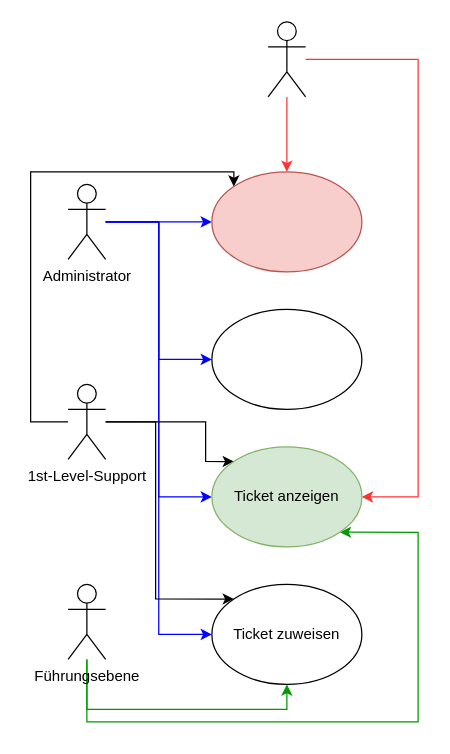
This 450x754 diagram has some shape labels left out. Each missing label, with the box of its shape:
Kunde/ Mitarbeiter: (267, 21, 306, 97)
Ticket anlegen: (211, 171, 362, 272)
Ticket schließen: (211, 308, 362, 409)
